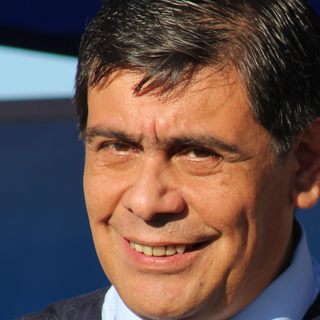eye: (96, 134, 142, 159), (178, 141, 220, 164)
